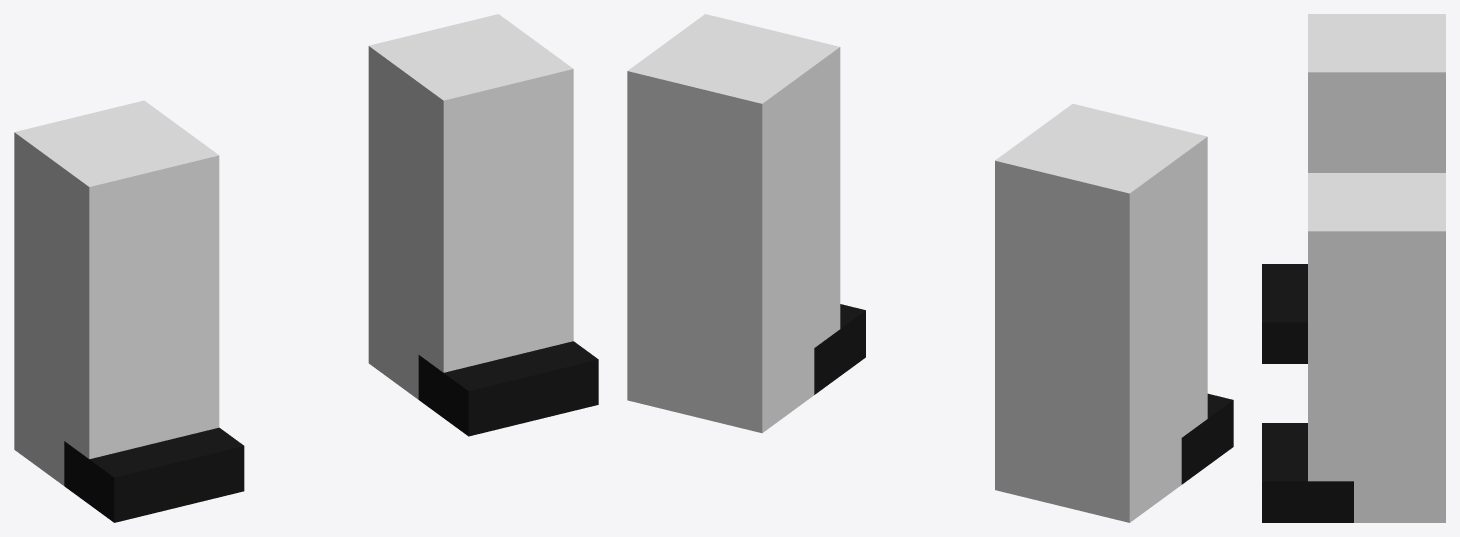
The model's file is apapiernas.obj.
3 renders of one model, left to right at view 1: azimuth 30°, elevation 25°; view 2: azimuth 150°, elevation 25°; view 3: azimuth 270°, elevation 25°, orthographic. The views are drawn at different scales.
Visible parts, largest first — view 1: apapiernas.002, apapiernas.003; view 2: apapiernas.003, apapiernas.002; view 3: apapiernas.003, apapiernas.002.
Boxes of the visible parts, bbox=[...] form: apapiernas.002: bbox=[14, 100, 244, 522]; apapiernas.003: bbox=[368, 14, 598, 436]; apapiernas.003: bbox=[627, 14, 865, 433]; apapiernas.002: bbox=[995, 104, 1233, 522]; apapiernas.003: bbox=[1262, 173, 1445, 522]; apapiernas.002: bbox=[1262, 14, 1445, 363].
Bounding box in the file's own units: 1.12 × 0.7 × 0.4.
